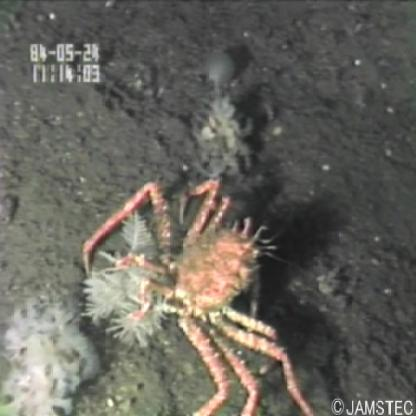Bio: (75, 174, 319, 416)
